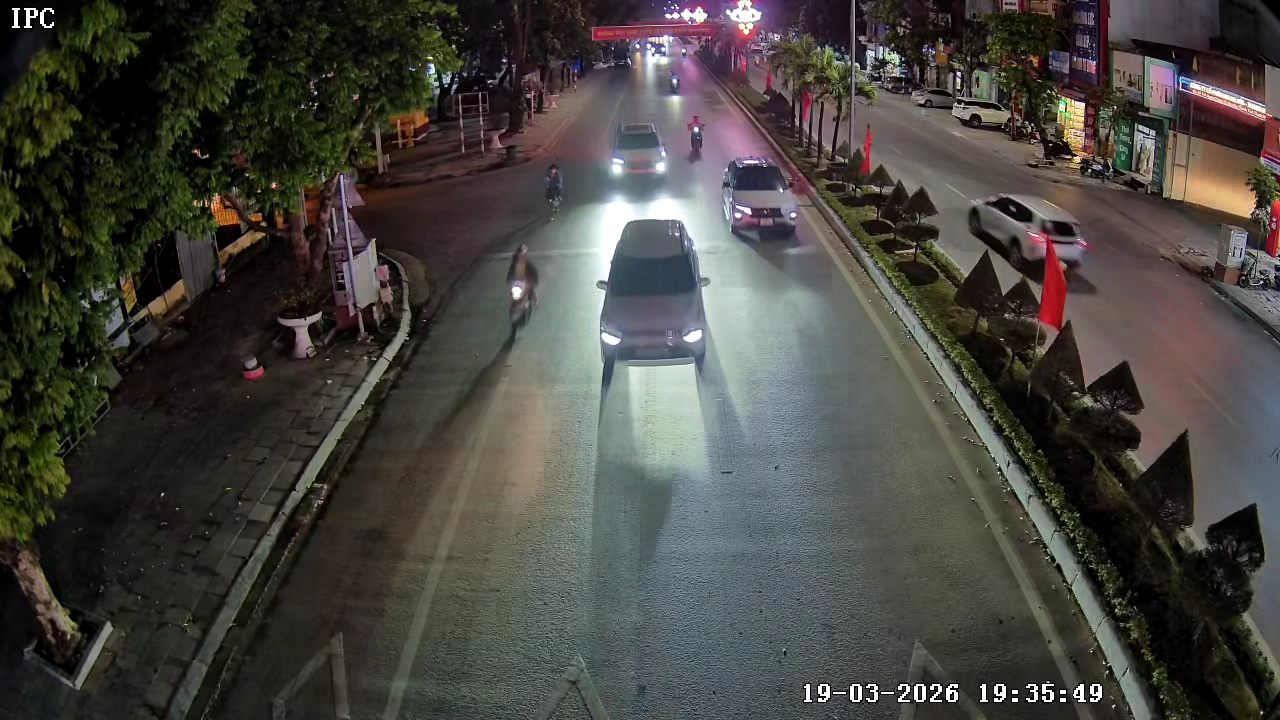car: (593, 213, 719, 390), (720, 156, 800, 242), (605, 122, 670, 187)
motorbike: (505, 245, 541, 340), (543, 161, 564, 225), (685, 109, 709, 162), (669, 68, 679, 93)
